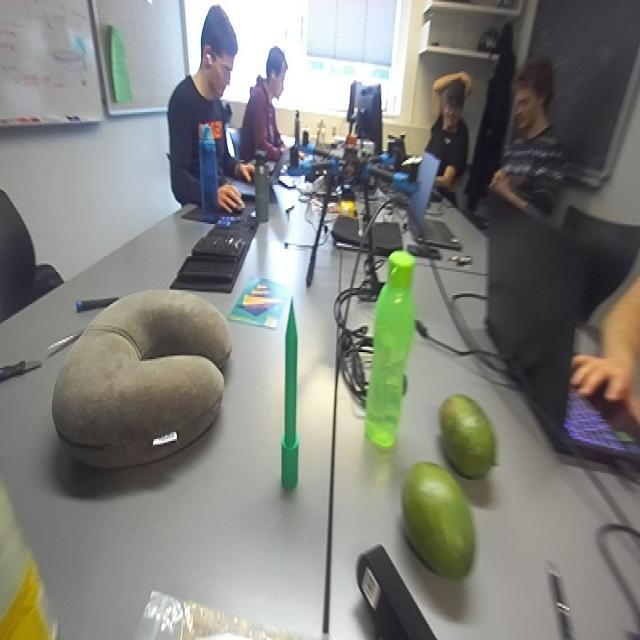probe: (281, 297, 299, 493)
